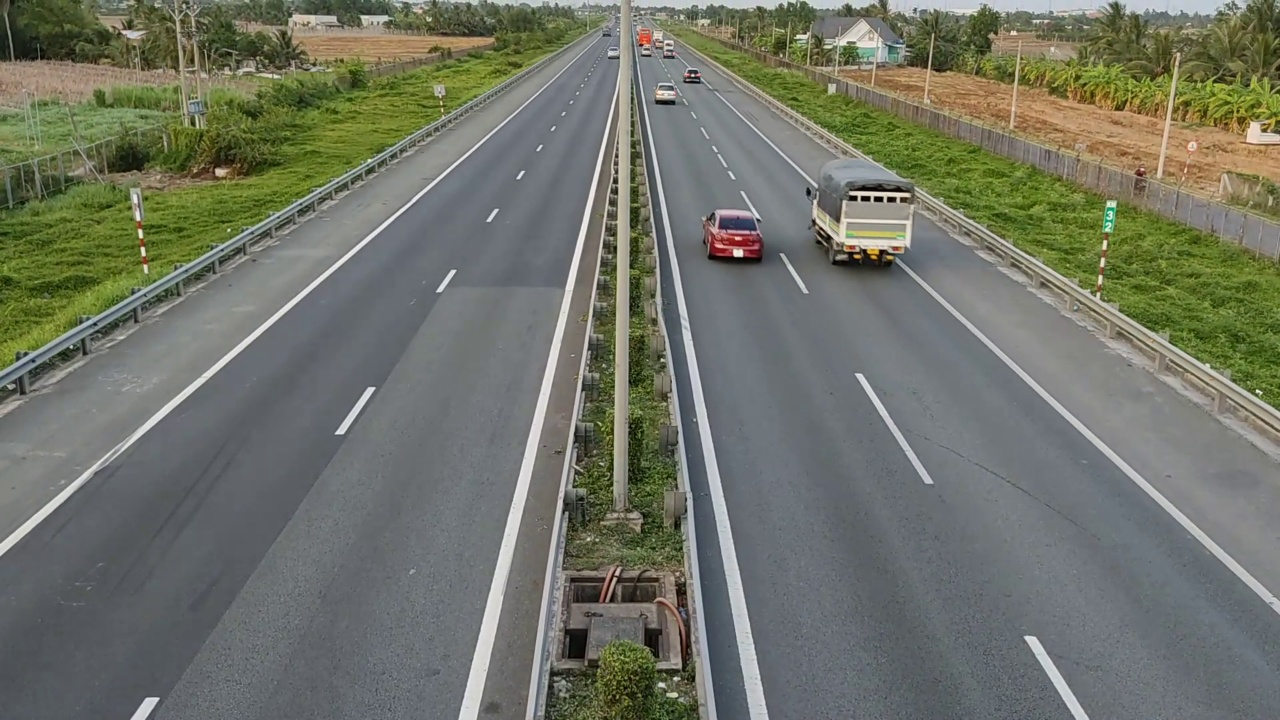car: (701, 208, 764, 260), (653, 81, 679, 104)
truck: (807, 157, 917, 265)
